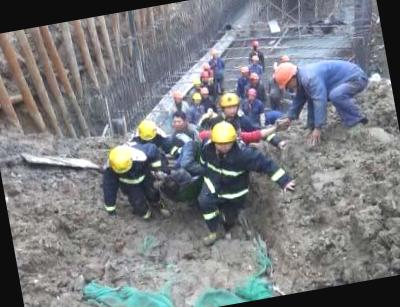no_helmet: (166, 108, 192, 132)
